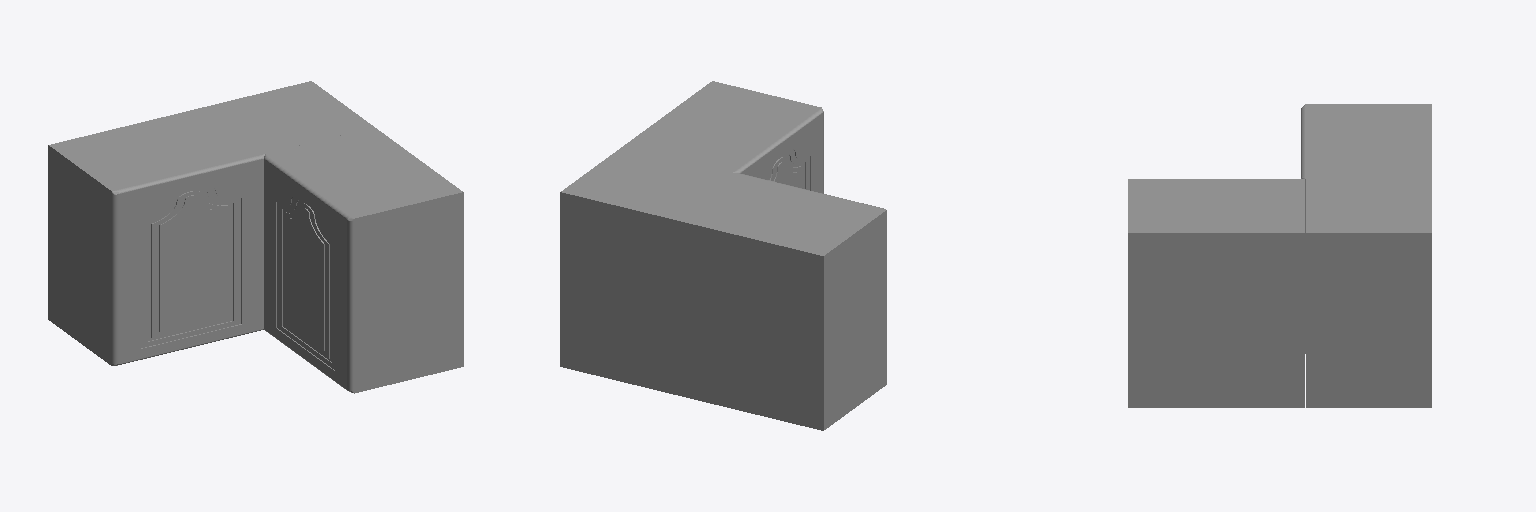
File: corner-base-unit-800.obj
3 views of the same model, side by side, from view 1: azimuth 30°, elevation 25°; view 2: azimuth 150°, elevation 25°; view 3: azimuth 270°, elevation 25° (orthographic).
Parts seen in each view (by area): view 1: Cube.003_Cube.008, Cube.005, Cube.004_Cube.000, Cube.002_Cube.004, Cube.001, Cube_Cube.002, Cube.006; view 2: Cube_Cube.002, Cube.006, Cube.002_Cube.004, Cube.001, Cube.004_Cube.000; view 3: Cube.001, Cube.006, Cube_Cube.002, Cube.005.
Part boxes in pixels (x1,y1,x2,y2): Cube.003_Cube.008: (112, 154, 264, 365); Cube.005: (353, 191, 463, 393); Cube.004_Cube.000: (264, 154, 353, 392); Cube.002_Cube.004: (48, 144, 113, 365); Cube.001: (266, 127, 460, 217); Cube_Cube.002: (52, 108, 264, 190); Cube.006: (202, 81, 373, 153); Cube_Cube.002: (670, 173, 883, 429); Cube.006: (560, 146, 732, 393); Cube.002_Cube.004: (821, 209, 886, 430); Cube.001: (624, 82, 818, 171); Cube.004_Cube.000: (733, 108, 823, 193); Cube.001: (1131, 179, 1304, 407); Cube.006: (1306, 179, 1431, 407); Cube_Cube.002: (1305, 106, 1431, 353); Cube.005: (1128, 179, 1130, 407).
Size of the model in its own units: 274 by 174 by 274.